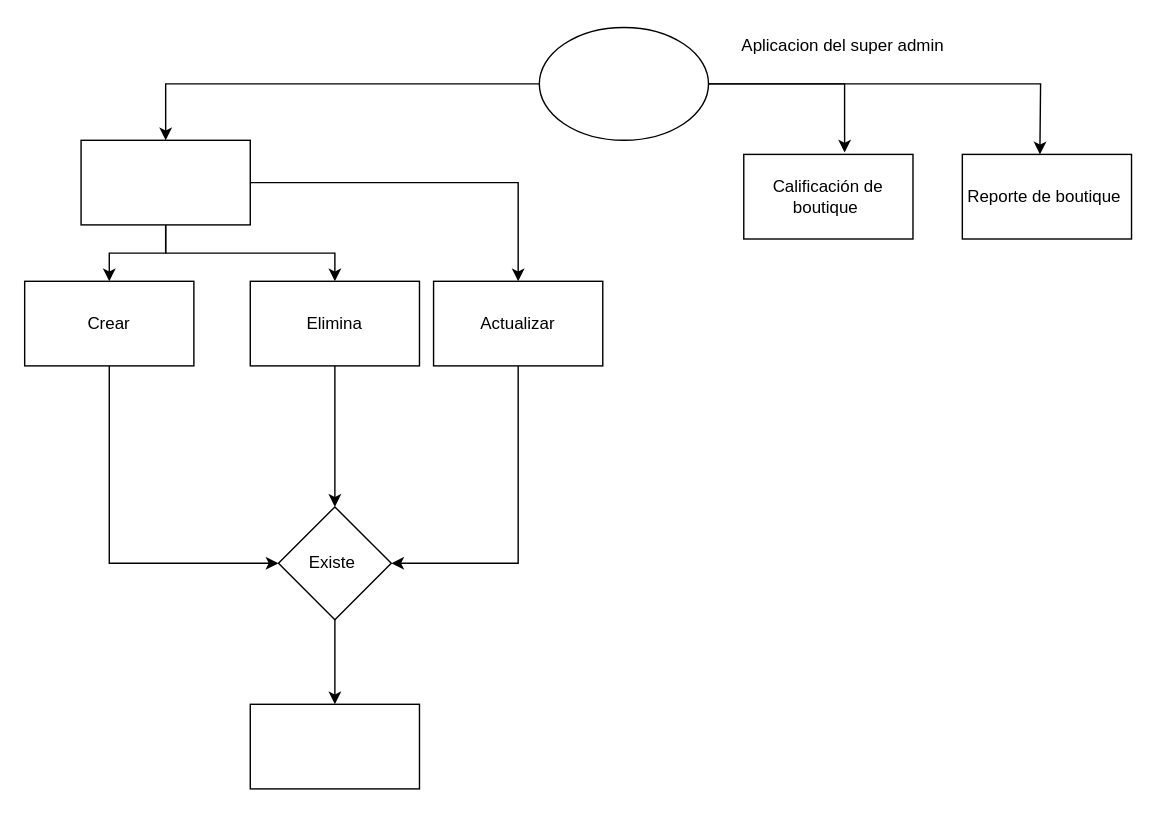
This 1156x814 diagram has some shape labels left out. Each missing label, with the centre of its shape:
"Crud de boutique" goes at pixel 165 182.
"Inicio" goes at pixel 623 83.
"Modifica formulario" goes at pixel 334 746.
